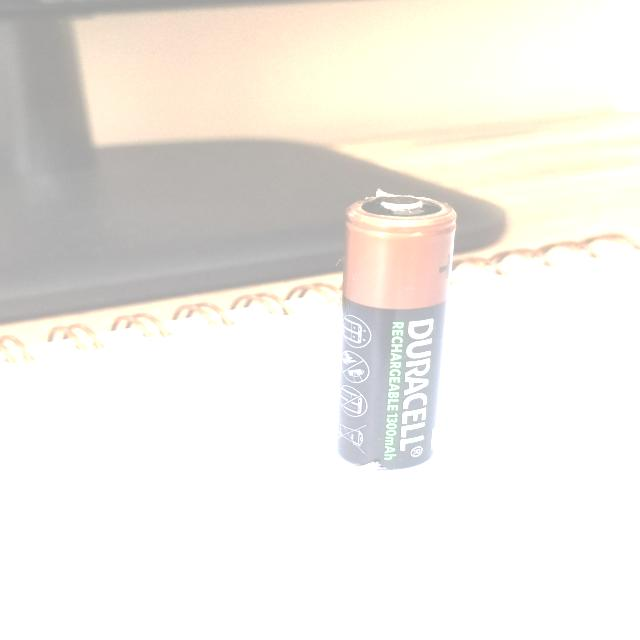AA: (332, 189, 463, 473)
